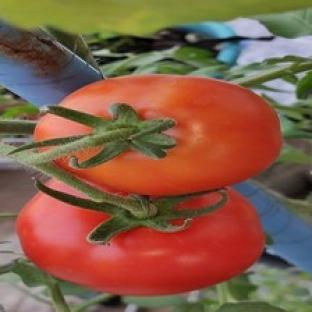Tomato: (58, 74, 282, 196), (17, 189, 264, 295)
